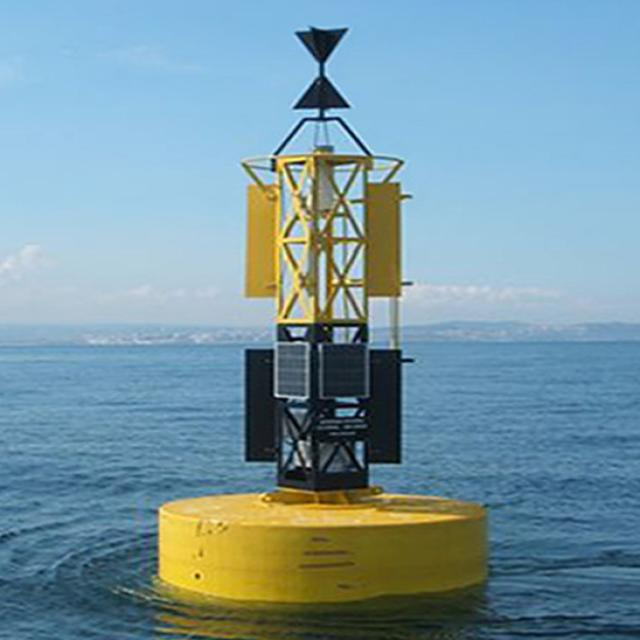buoy: (145, 11, 503, 602)
